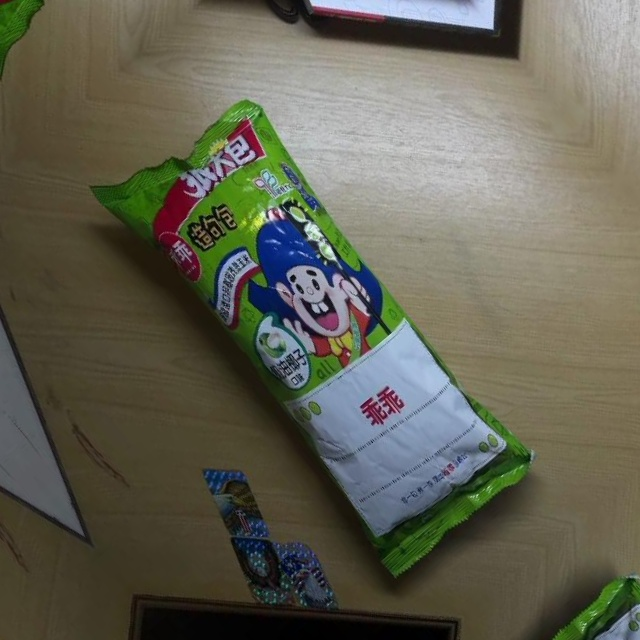Good-Luck: (73, 68, 552, 584)
